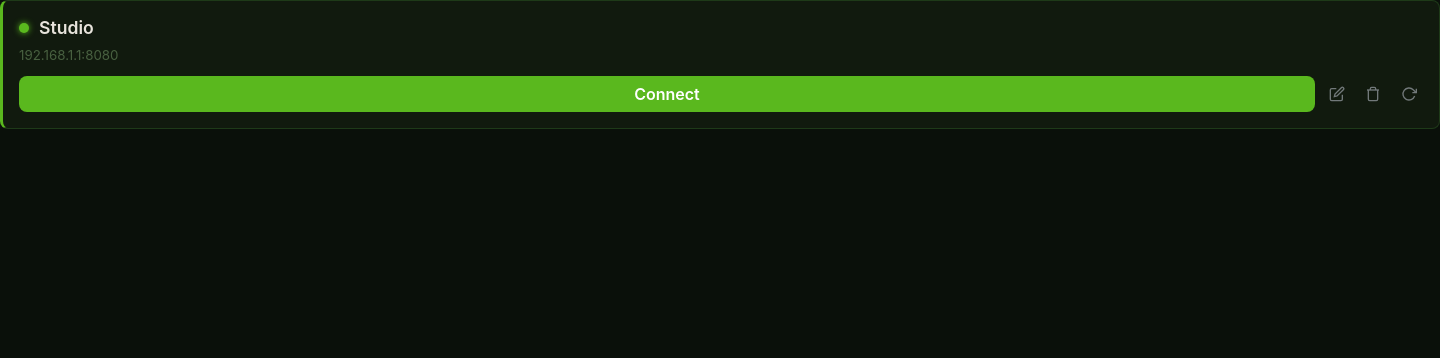
Test: InstanceCard — inline edit › clicking Edit replaces the card with the edit form
What coordinates should you click on to do the following:
click the button titled "Edit"
I would click on:
 (1337, 94)
Its box is [1323,80,1351,108].
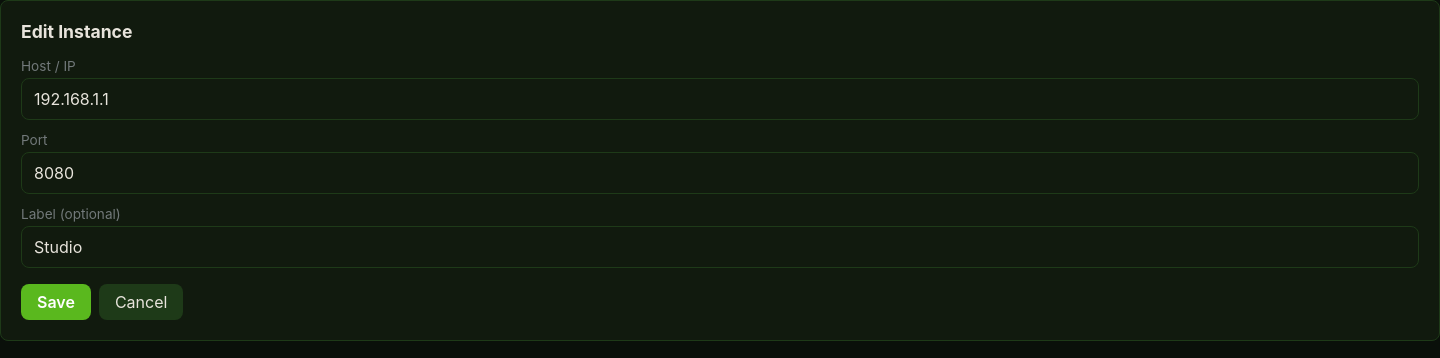
Expected: the heading "Edit Instance" is shown, [21,21,132,42]
